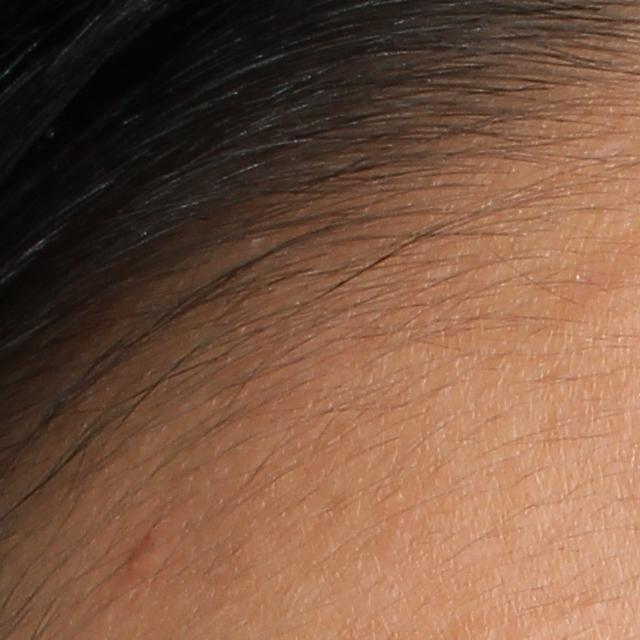papule: (125, 537, 166, 584)
